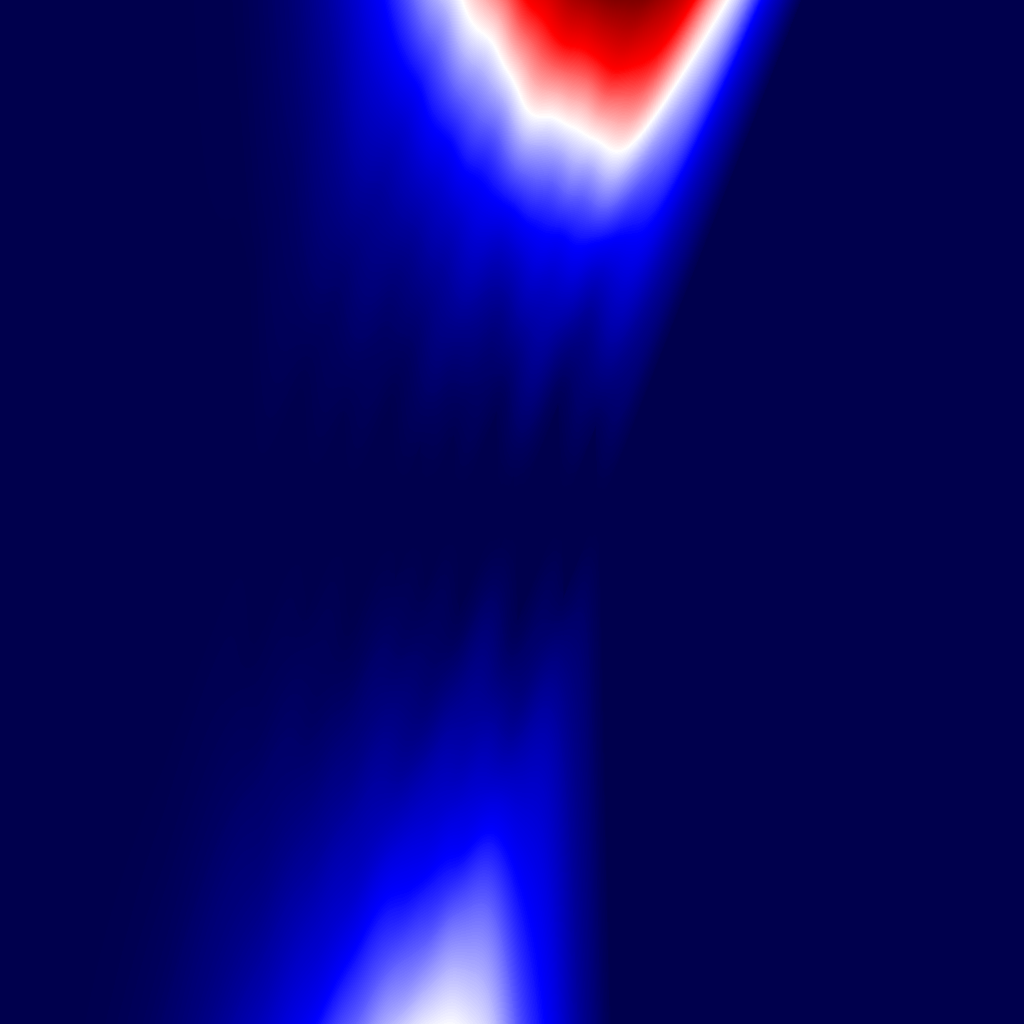diamond: (157, 279, 255, 745), (256, 388, 308, 636), (519, 402, 565, 622), (351, 403, 397, 621), (307, 409, 350, 615), (460, 411, 502, 613), (565, 425, 601, 599), (426, 432, 459, 592), (397, 443, 426, 581), (503, 474, 519, 550)
